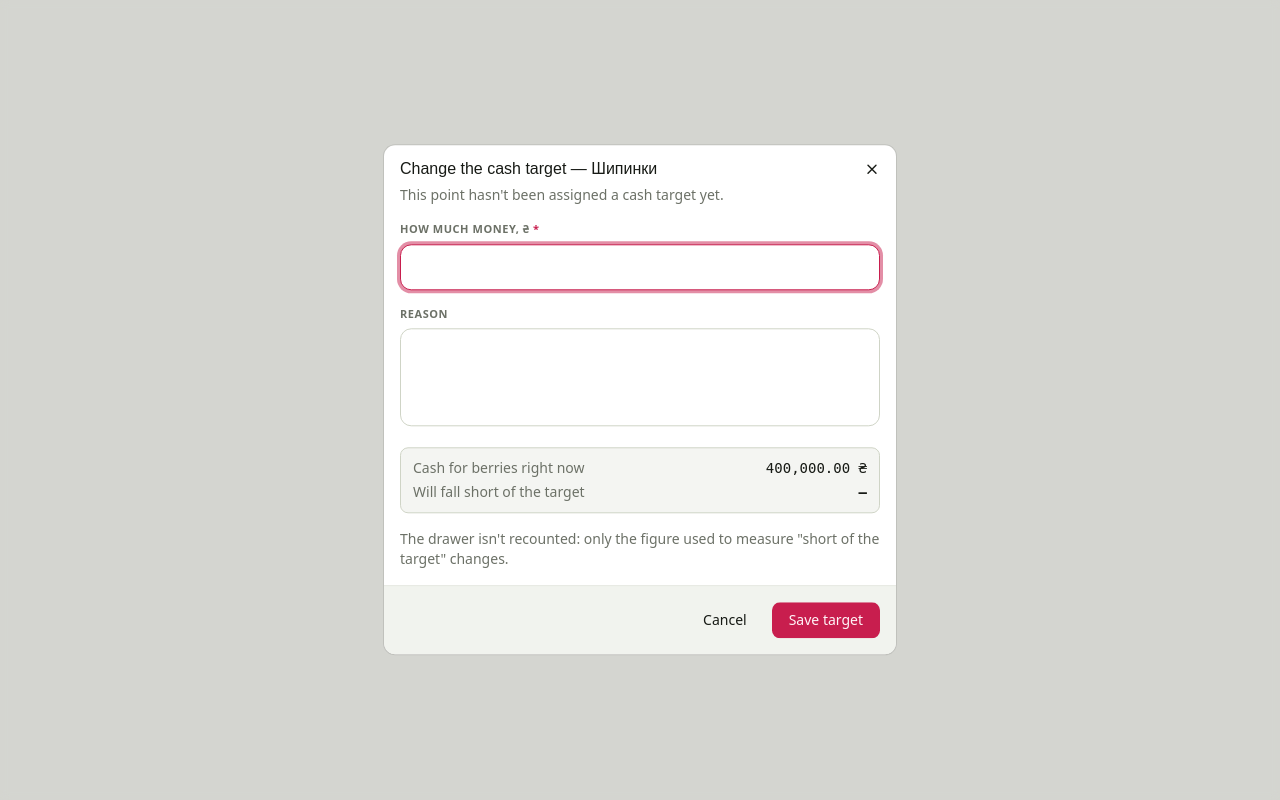
SetTargetCashDialog › submits a blank reason when setting a point's FIRST-EVER target
Type "145453.00" into the field labelled "How much money, ₴" at (640, 267), box [400,244,880,290]
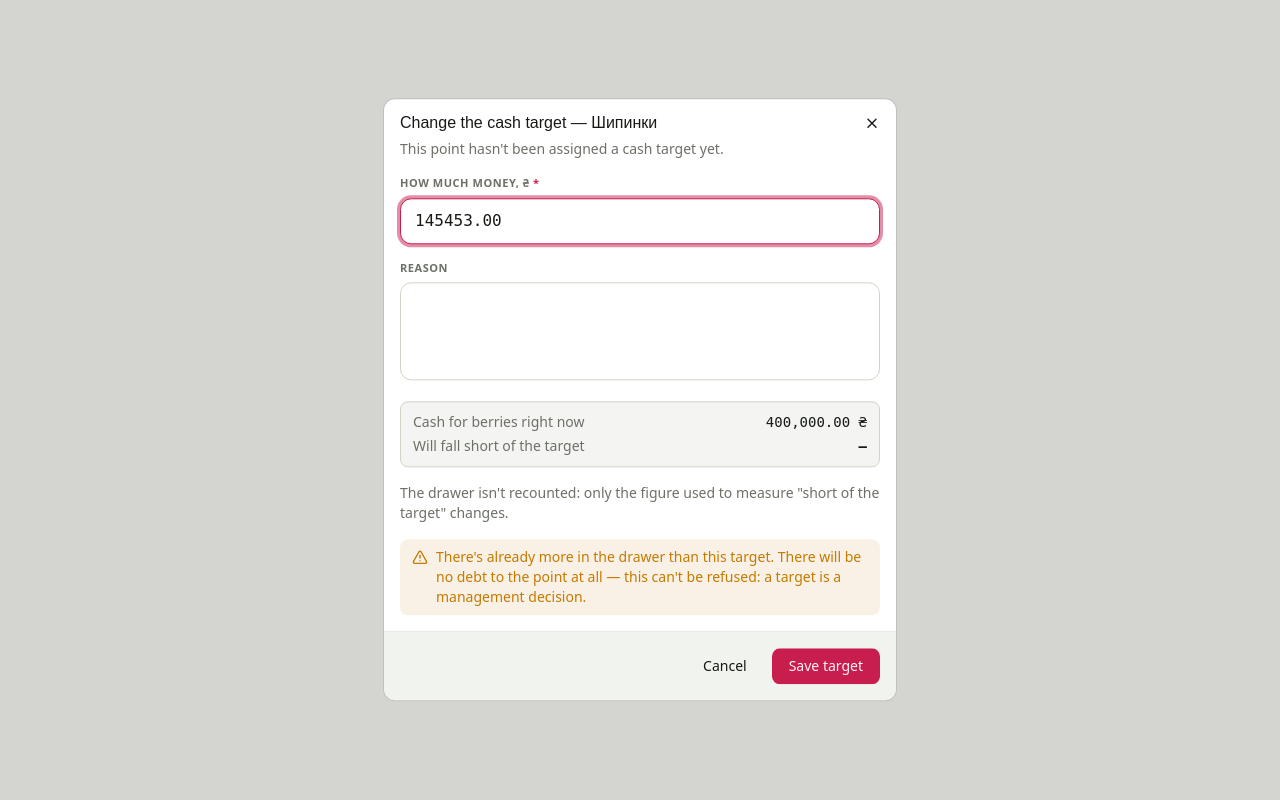
Click the button "Save target" at (826, 667), box [772,649,880,685]
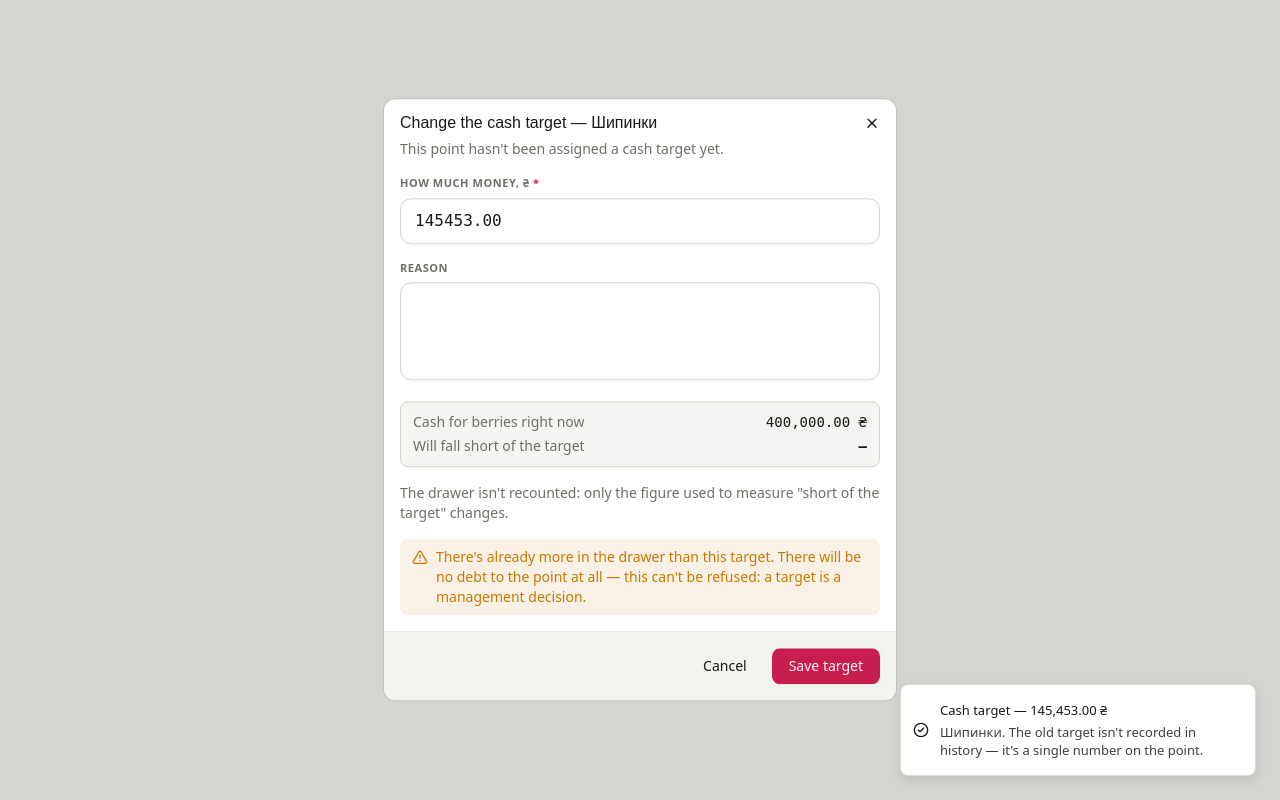
Check: the text "Cash target — 145,453.00 ₴" is shown, box [940,701,1107,719]
Check: the text "Шипинки. The old target isn't recorded in history — it's a single number on the point." is shown, box [940,723,1203,759]
